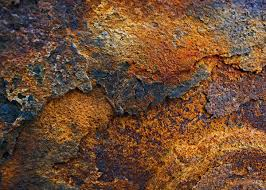rust: (1, 2, 265, 189)
